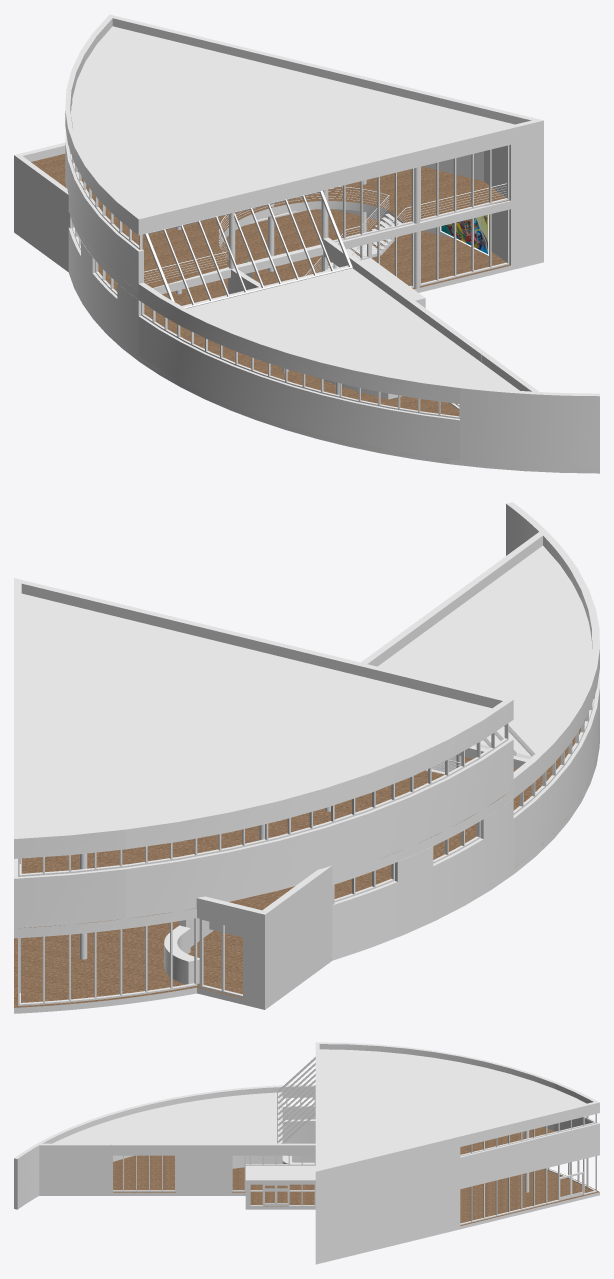
The model's file is MardouMuseumResult.glb.
3 renders of one model, top to bottom at view 1: azimuth 30°, elevation 25°; view 2: azimuth 150°, elevation 25°; view 3: azimuth 270°, elevation 25°, orthographic. The views are drawn at different scales.
Parts seen in each view (by area): view 1: Walls, Floor, Chrome, Picture; view 2: Walls, Floor; view 3: Walls, Floor.
Boxes of the visible parts, left/top/right/bottom form: Walls: left=14, top=14, right=599, bottom=473; Floor: left=31, top=154, right=510, bottom=463; Chrome: left=144, top=183, right=506, bottom=283; Picture: left=441, top=215, right=488, bottom=253; Walls: left=14, top=502, right=599, bottom=1013; Floor: left=14, top=719, right=599, bottom=1007; Walls: left=14, top=1042, right=599, bottom=1264; Floor: left=113, top=1127, right=599, bottom=1225.
Size of the model in its own units: 105 by 34.96 by 200.
Materials: 8 (5 with a texture image).
